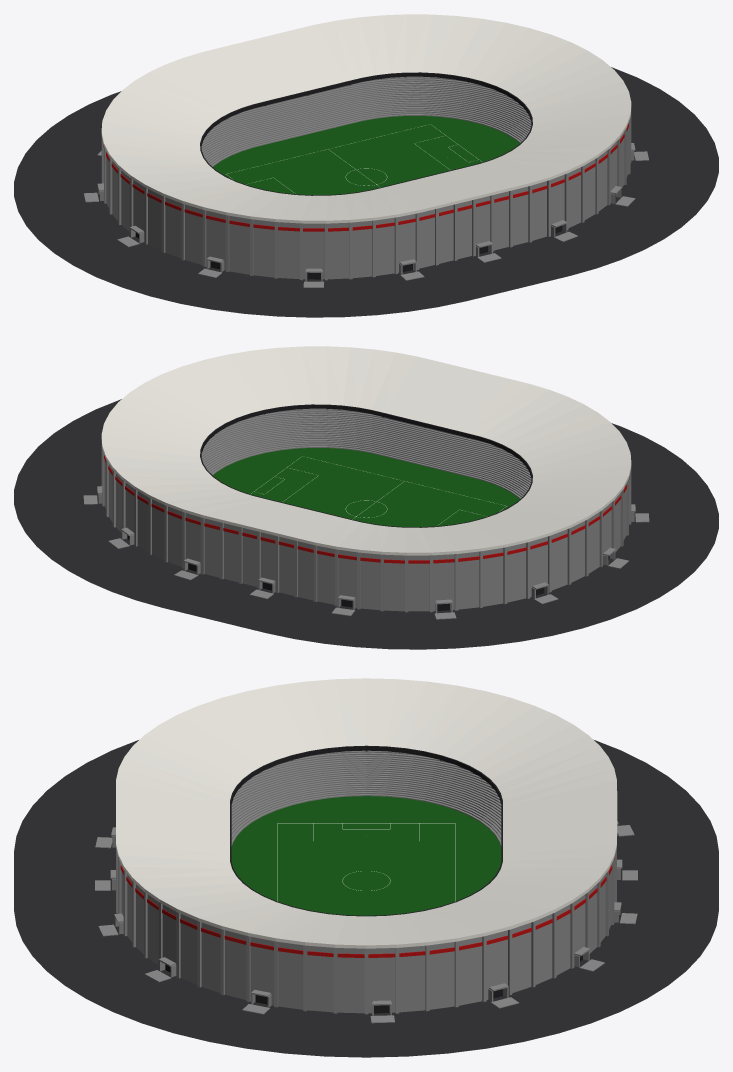
The model's file is estadio.obj.
The picture shows the model from 3 angles, top to bottom: view 1: azimuth 30°, elevation 25°; view 2: azimuth 150°, elevation 25°; view 3: azimuth 270°, elevation 25°; orthographic projection. The views are drawn at different scales.
Visible parts, largest first — view 1: Roof_Canopy_Roof, Exterior_Ground_Pavement, Facade_Wall_Concrete, Field_Turf_Grass, Nivel_Inferior_Concrete, Columns_Pilasters_Concrete, Roof_Edge_Ring_Metal, Facade_Band_Red, Exterior_Entrance_Aprons_Concrete, Entrance_Jambs_Concrete, Nivel_Superior_Concrete, Entrance_Canopies_Concrete; view 2: Roof_Canopy_Roof, Exterior_Ground_Pavement, Facade_Wall_Concrete, Field_Turf_Grass, Nivel_Inferior_Concrete, Columns_Pilasters_Concrete, Roof_Edge_Ring_Metal, Facade_Band_Red, Exterior_Entrance_Aprons_Concrete, Entrance_Jambs_Concrete, Nivel_Superior_Concrete, Entrance_Canopies_Concrete; view 3: Roof_Canopy_Roof, Exterior_Ground_Pavement, Field_Turf_Grass, Facade_Wall_Concrete, Nivel_Inferior_Concrete, Columns_Pilasters_Concrete, Roof_Edge_Ring_Metal, Exterior_Entrance_Aprons_Concrete, Facade_Band_Red, Entrance_Jambs_Concrete, Entrance_Canopies_Concrete, Nivel_Superior_Concrete.
Boxes of the visible parts, <box> form: Roof_Canopy_Roof: <box>101,14,631,223</box>; Exterior_Ground_Pavement: <box>14,67,718,317</box>; Facade_Wall_Concrete: <box>106,128,628,279</box>; Field_Turf_Grass: <box>213,116,519,195</box>; Nivel_Inferior_Concrete: <box>201,80,531,166</box>; Columns_Pilasters_Concrete: <box>101,110,631,280</box>; Roof_Edge_Ring_Metal: <box>200,72,532,195</box>; Facade_Band_Red: <box>103,123,628,231</box>; Exterior_Entrance_Aprons_Concrete: <box>84,151,648,287</box>; Entrance_Jambs_Concrete: <box>98,150,634,281</box>; Nivel_Superior_Concrete: <box>244,76,488,111</box>; Entrance_Canopies_Concrete: <box>97,143,635,272</box>; Roof_Canopy_Roof: <box>101,346,631,555</box>; Exterior_Ground_Pavement: <box>14,399,718,649</box>; Facade_Wall_Concrete: <box>104,460,626,611</box>; Field_Turf_Grass: <box>213,448,519,527</box>; Nivel_Inferior_Concrete: <box>201,412,531,498</box>; Columns_Pilasters_Concrete: <box>101,442,631,612</box>; Roof_Edge_Ring_Metal: <box>200,404,532,527</box>; Facade_Band_Red: <box>104,455,629,563</box>; Exterior_Entrance_Aprons_Concrete: <box>83,495,649,619</box>; Entrance_Jambs_Concrete: <box>98,494,634,613</box>; Nivel_Superior_Concrete: <box>244,408,488,443</box>; Entrance_Canopies_Concrete: <box>97,486,635,604</box>; Roof_Canopy_Roof: <box>116,678,617,948</box>; Exterior_Ground_Pavement: <box>14,740,718,1057</box>; Field_Turf_Grass: <box>231,796,501,915</box>; Facade_Wall_Concrete: <box>121,865,611,1013</box>; Nivel_Inferior_Concrete: <box>231,755,501,846</box>; Columns_Pilasters_Concrete: <box>116,848,616,1014</box>; Roof_Edge_Ring_Metal: <box>230,745,502,916</box>; Exterior_Entrance_Aprons_Concrete: <box>95,825,637,1023</box>; Facade_Band_Red: <box>118,857,614,957</box>; Entrance_Jambs_Concrete: <box>112,825,620,1015</box>; Entrance_Canopies_Concrete: <box>110,821,622,1005</box>; Nivel_Superior_Concrete: <box>281,750,451,763</box>.
Bounding box in the file's own units: 320 × 29.22 × 270.
